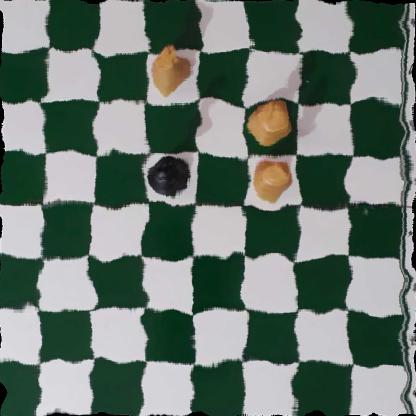black-king: (148, 154, 191, 198)
white-bishop: (247, 98, 288, 143)
white-king: (248, 155, 291, 200)
white-rook: (150, 45, 193, 95)
